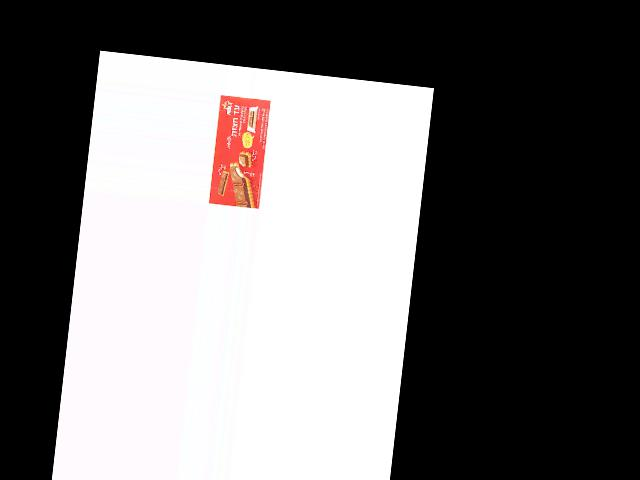chocolate: (208, 92, 271, 209)
